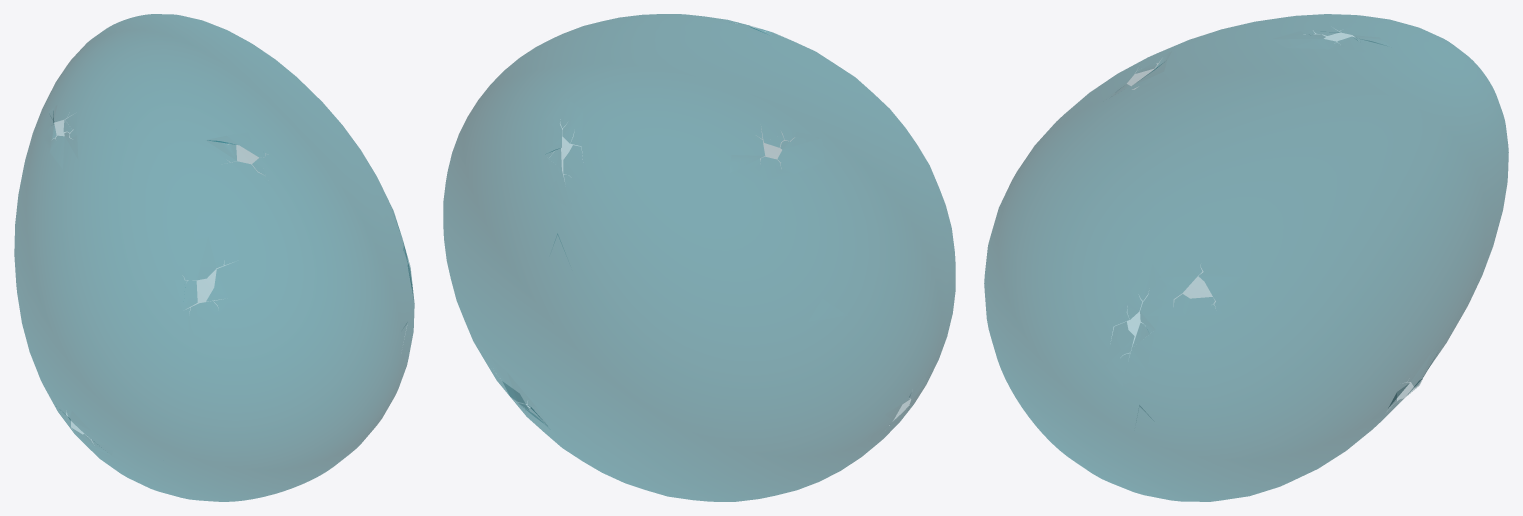
The model's file is ovo_02.glb.
The picture shows the model from 3 angles, left to right: view 1: azimuth 30°, elevation 25°; view 2: azimuth 150°, elevation 25°; view 3: azimuth 270°, elevation 25°; orthographic projection. The views are drawn at different scales.
Visible parts, largest first — view 1: ovo; view 2: ovo; view 3: ovo.
Part boxes in pixels (box(x1,y1,x2,y2)): ovo: box(14, 14, 414, 501); ovo: box(443, 14, 955, 501); ovo: box(984, 14, 1508, 501).
Bounding box in the file's own units: 38.4 × 42.91 × 44.53.
